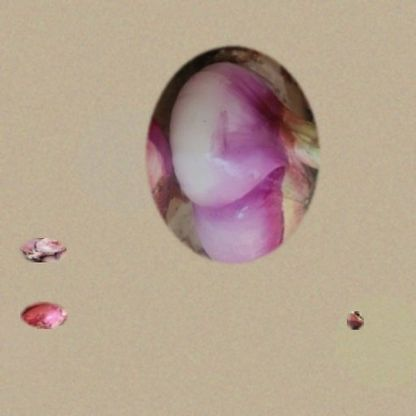damaged: (141, 39, 324, 270)
healthy: (20, 301, 68, 329)
sprouted: (20, 238, 67, 262), (347, 311, 364, 330)
